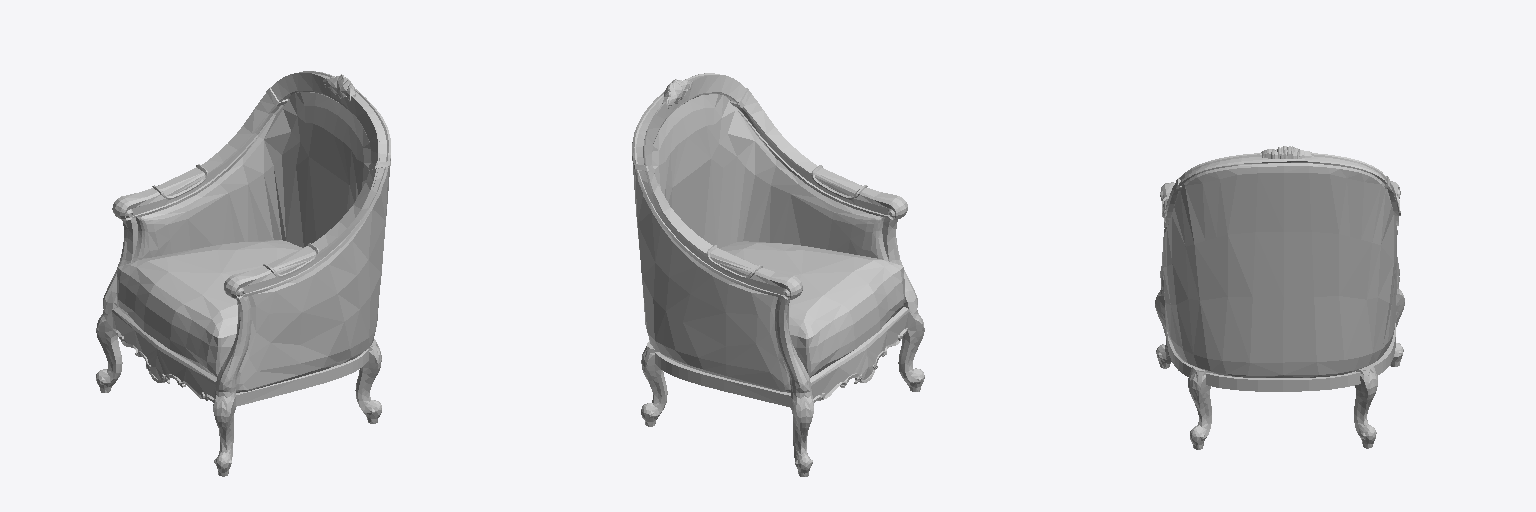
File: Silla.obj
The picture shows the model from 3 angles: view 1: azimuth 30°, elevation 25°; view 2: azimuth 150°, elevation 25°; view 3: azimuth 270°, elevation 25°; orthographic projection.
Visible parts, largest first — view 1: ArmChair_01.001; view 2: ArmChair_01.001; view 3: ArmChair_01.001.
Part boxes in pixels (left/top/right/bottom): ArmChair_01.001: left=96, top=71, right=390, bottom=476; ArmChair_01.001: left=632, top=73, right=924, bottom=476; ArmChair_01.001: left=1155, top=146, right=1404, bottom=449.
Bounding box in the file's own units: 1.28 × 1.85 × 1.36.